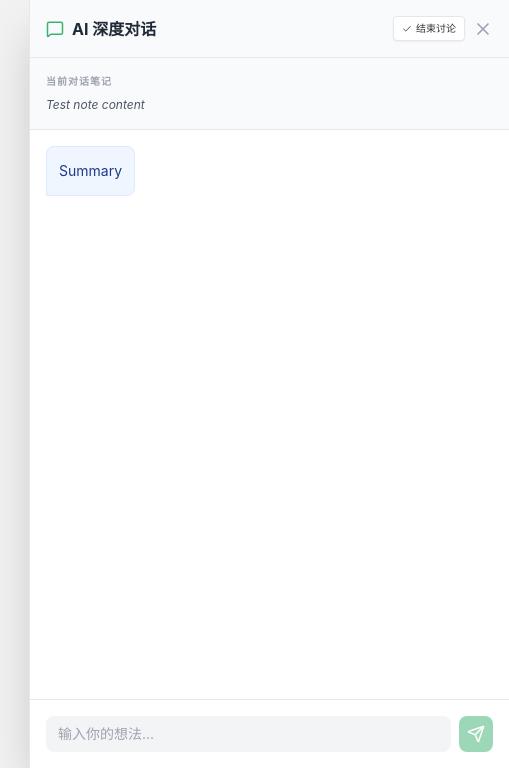
AIChatSidebar › should switch between summary and transcript saving modes
Check: the text "Summary" is shown, box [59,159,122,183]
Note: Simulate chat history
Type "User Question" into the field with placeholder "输入你的想法...".
click(248, 734); type("User Question")  # box [46,716,451,752]
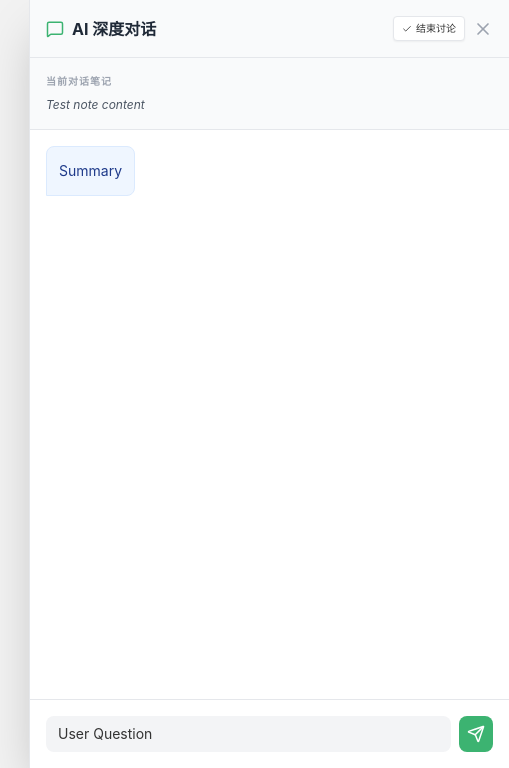
Click the button named "发送".
click(476, 734)  # box [459,716,493,752]
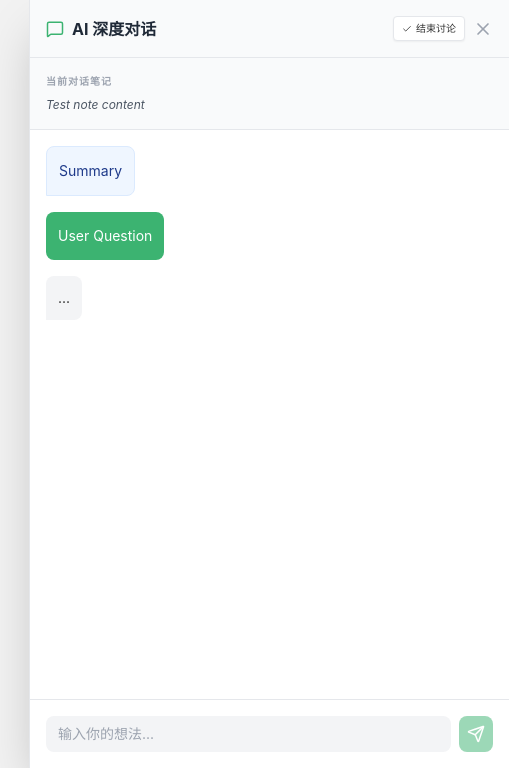
Note: Click End Session
Click the button "结束讨论".
click(429, 28)  # box [393,16,465,41]
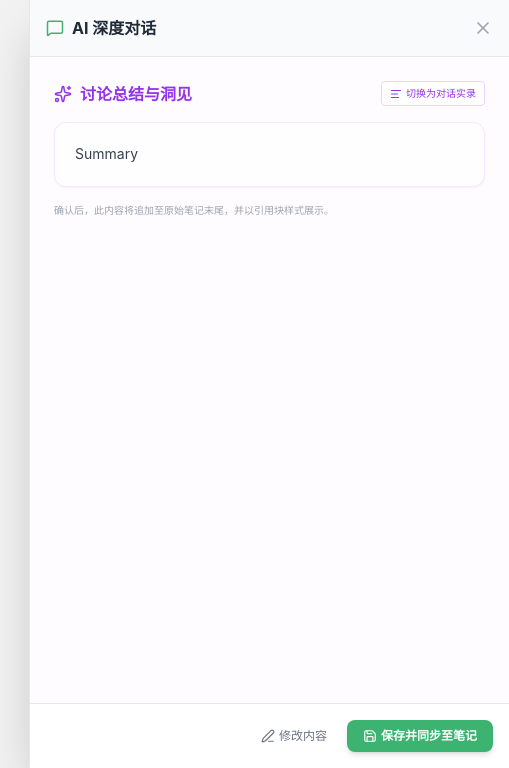
Check: the heading "讨论总结与洞见" is shown, box [80,82,192,106]
Note: Switch to Transcript
Click the button "切换为对话实录".
click(433, 94)  # box [381,81,485,106]
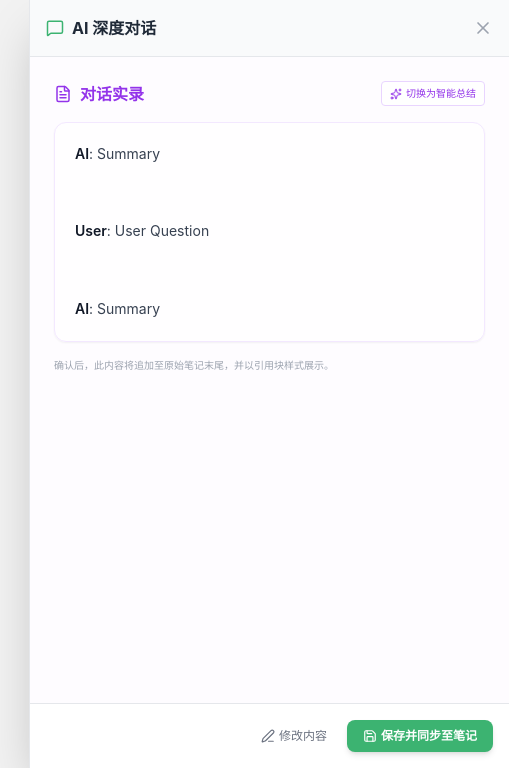
Check: the heading "对话实录" is shown, box [80,82,144,106]
Check: the text "User: User Question" is shown, box [75,222,209,240]
Note: Switch back to Summary
Click the button "切换为智能总结".
click(433, 94)  # box [381,81,485,106]
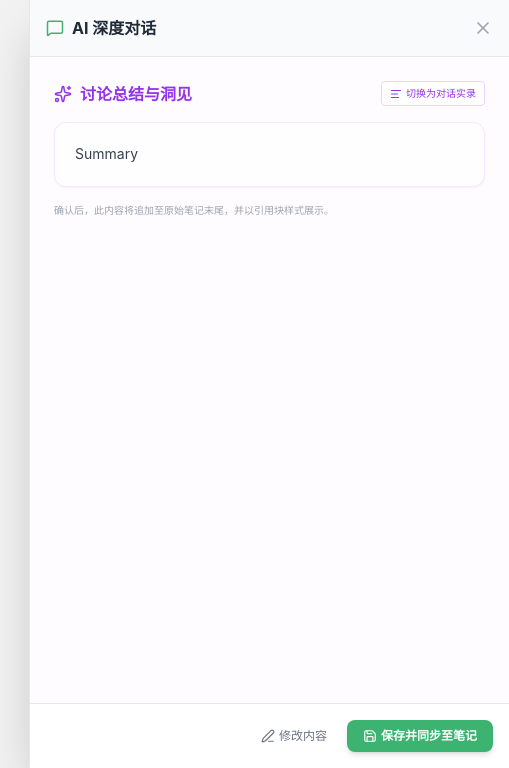
Check: the heading "讨论总结与洞见" is shown, box [80,82,192,106]
